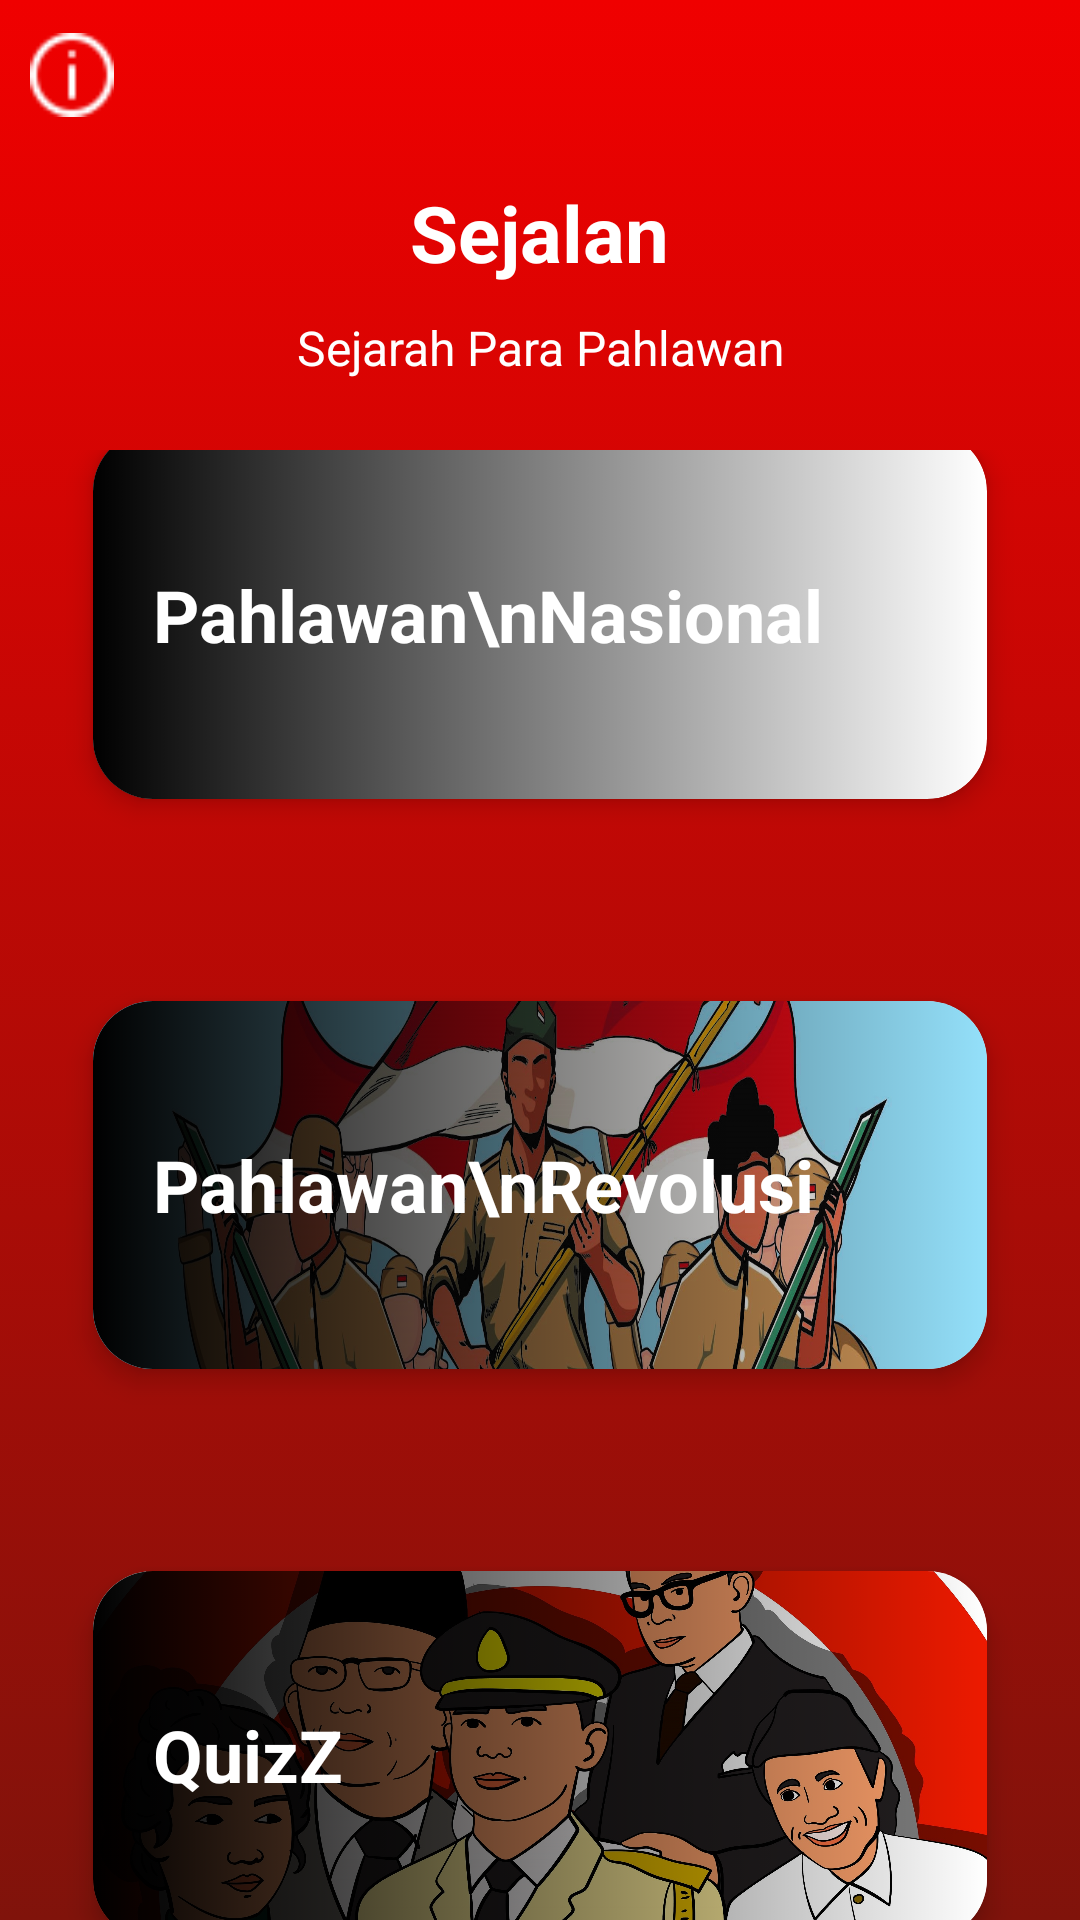

Icons on this 1080px x 1920px Android screen, each with its box as {"x1": x1, "y1": y1, "x2": x2, "y2": y2}:
info: {"x1": 30, "y1": 33, "x2": 114, "y2": 117}
